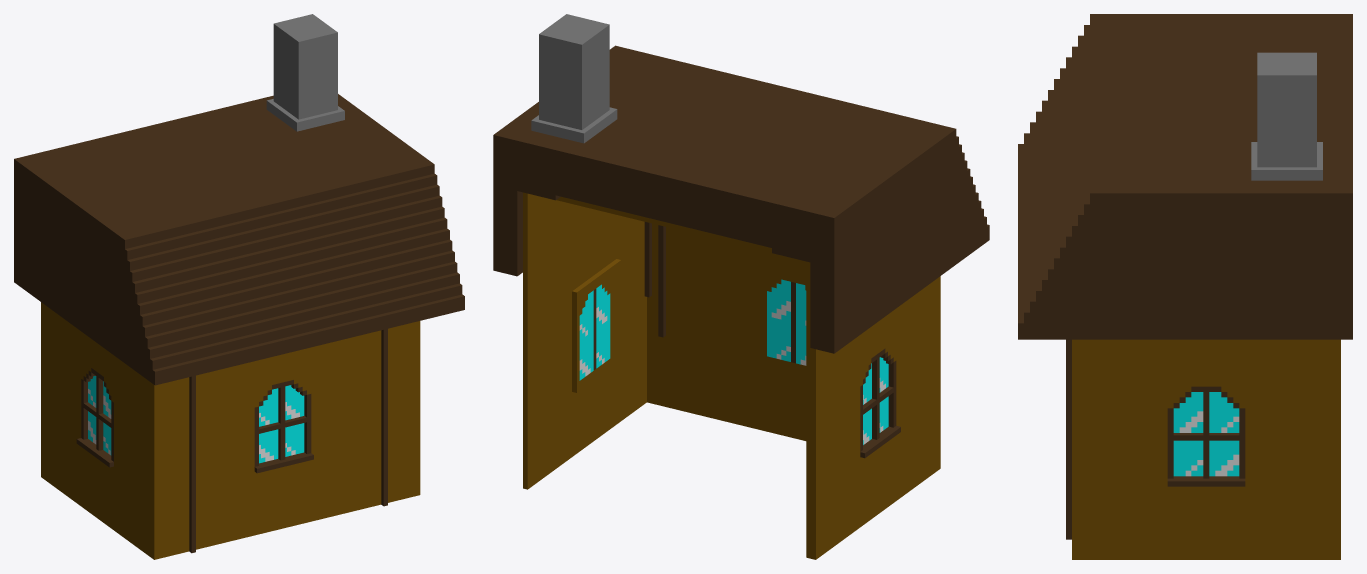
Rendered from home_4.obj.
3 views of the same model, side by side, from view 1: azimuth 30°, elevation 25°; view 2: azimuth 150°, elevation 25°; view 3: azimuth 270°, elevation 25° (orthographic). The views are drawn at different scales.
Parts seen in each view (by area): view 1: home_4; view 2: home_4; view 3: home_4.
Boxes of the visible parts, x1,y1,x2,y2 form: home_4: (14, 14, 464, 559); home_4: (493, 14, 989, 559); home_4: (1018, 14, 1352, 559).
Size of the model in its own units: 71 by 89 by 56.
Materials: 1 (1 with a texture image).
